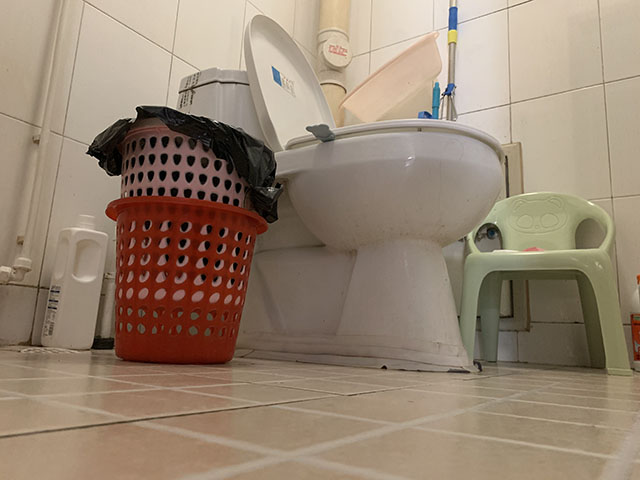closestool: (176, 14, 508, 375)
stool: (459, 190, 633, 379)
trashcan: (104, 194, 265, 369)
